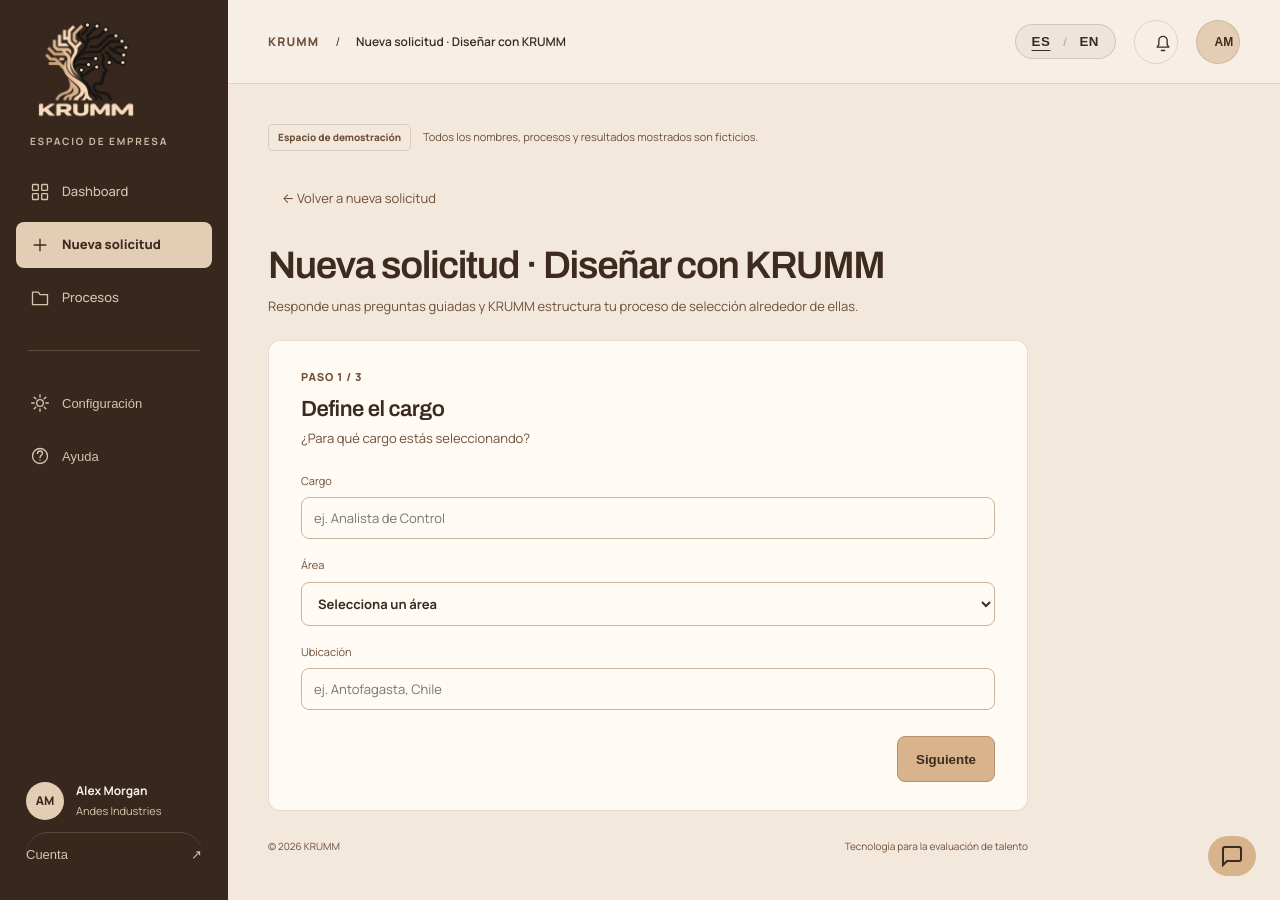
Scenario: E. diseño guiado (3 pasos → proceso en estado demo) › paso 1 vacío: Siguiente muestra errores y no avanza
This screenshot has width=1280, height=900.
Click the button "Siguiente" at (946, 759), box [897, 736, 995, 782]
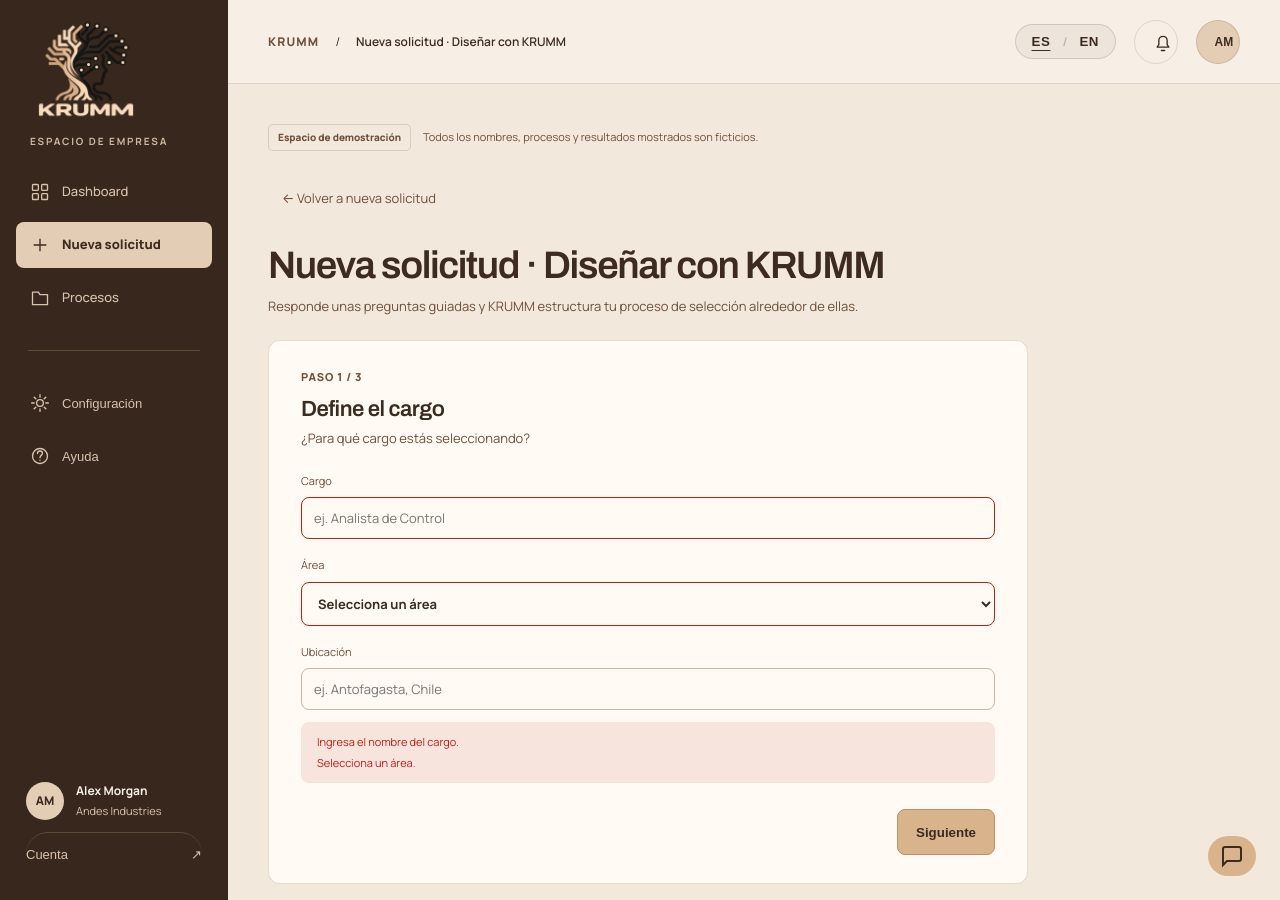
Check: the dropdown labelled "Área" is shown, box [301, 582, 995, 626]
Check: the message shows "Ingresa el nombre del cargo.", box [317, 734, 459, 749]
Check: the message shows "Selecciona un área.", box [317, 755, 415, 770]
